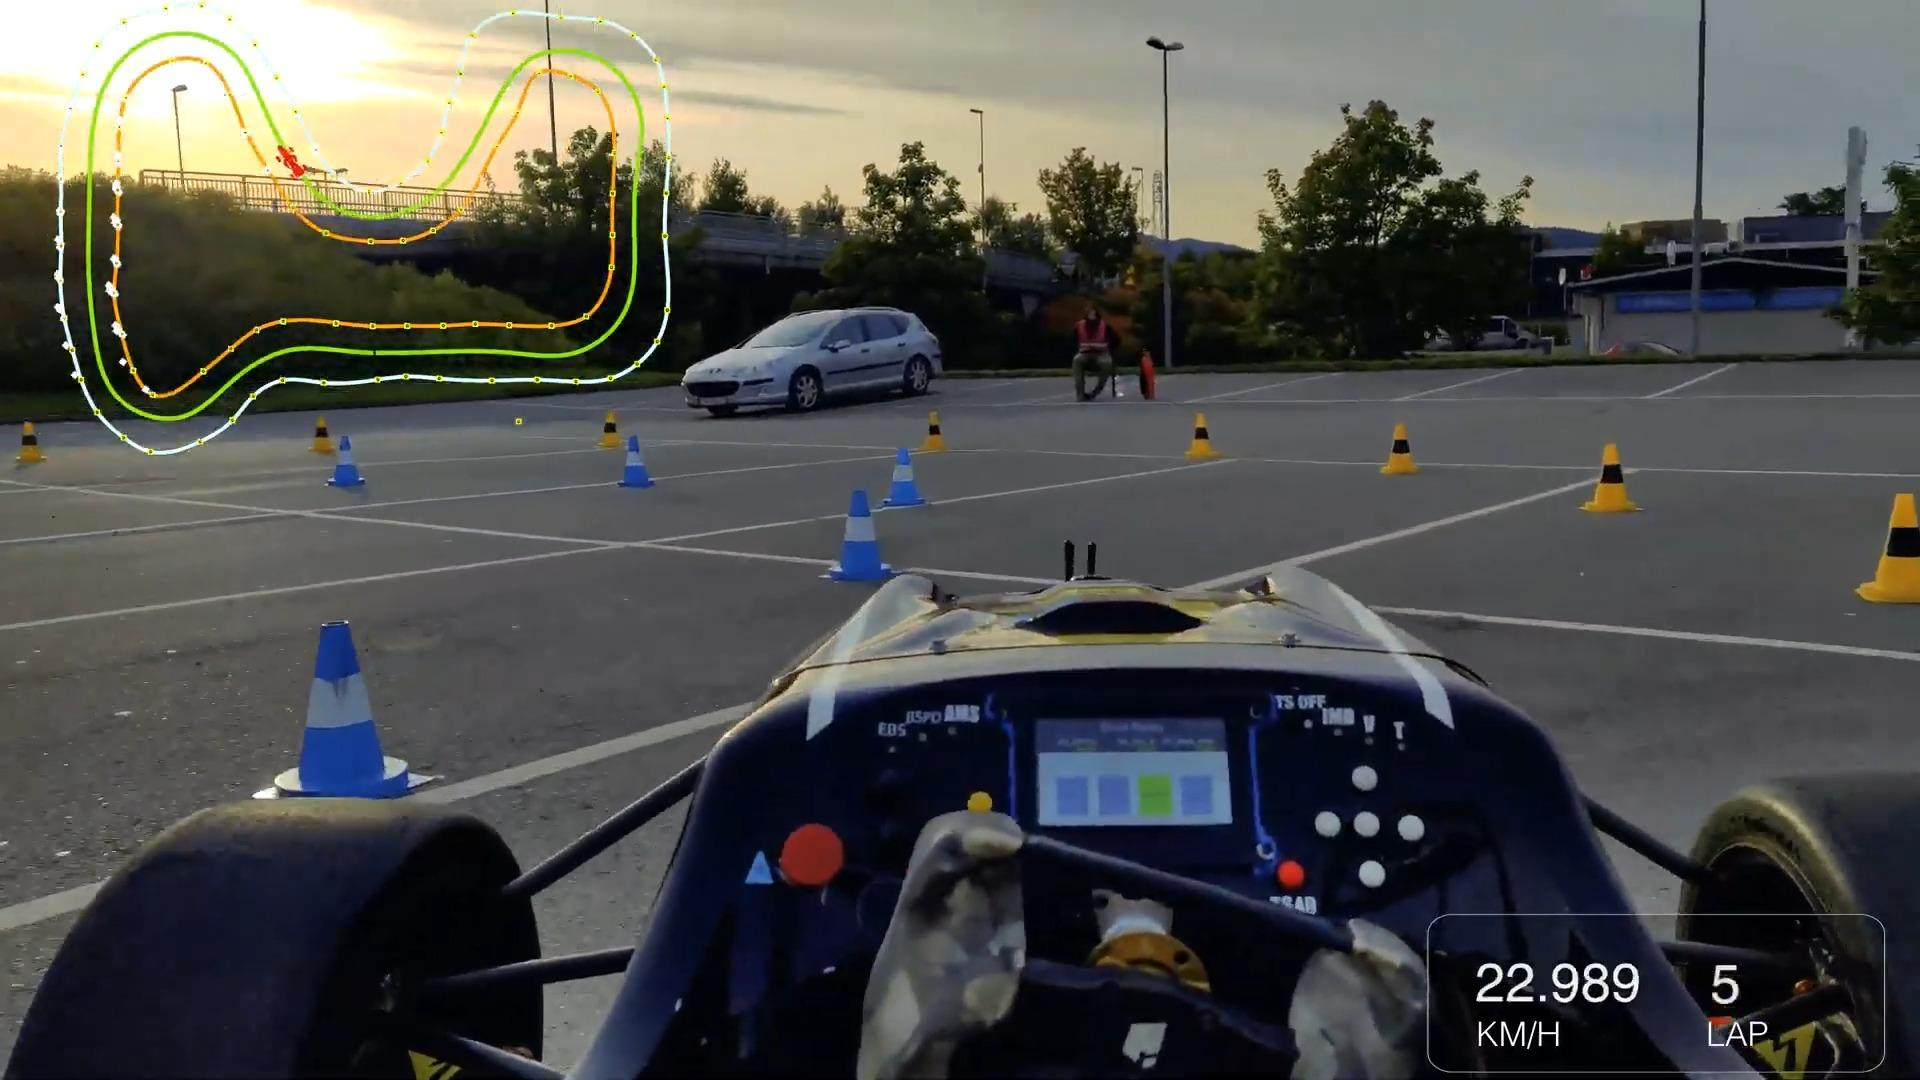blue_cone: (274, 629, 397, 790), (816, 488, 893, 585), (318, 436, 380, 510), (874, 438, 930, 510), (615, 433, 659, 497)
yellow_cone: (1855, 484, 1920, 611), (1362, 418, 1429, 483), (1176, 407, 1237, 475), (1582, 433, 1634, 512), (914, 404, 956, 462)
